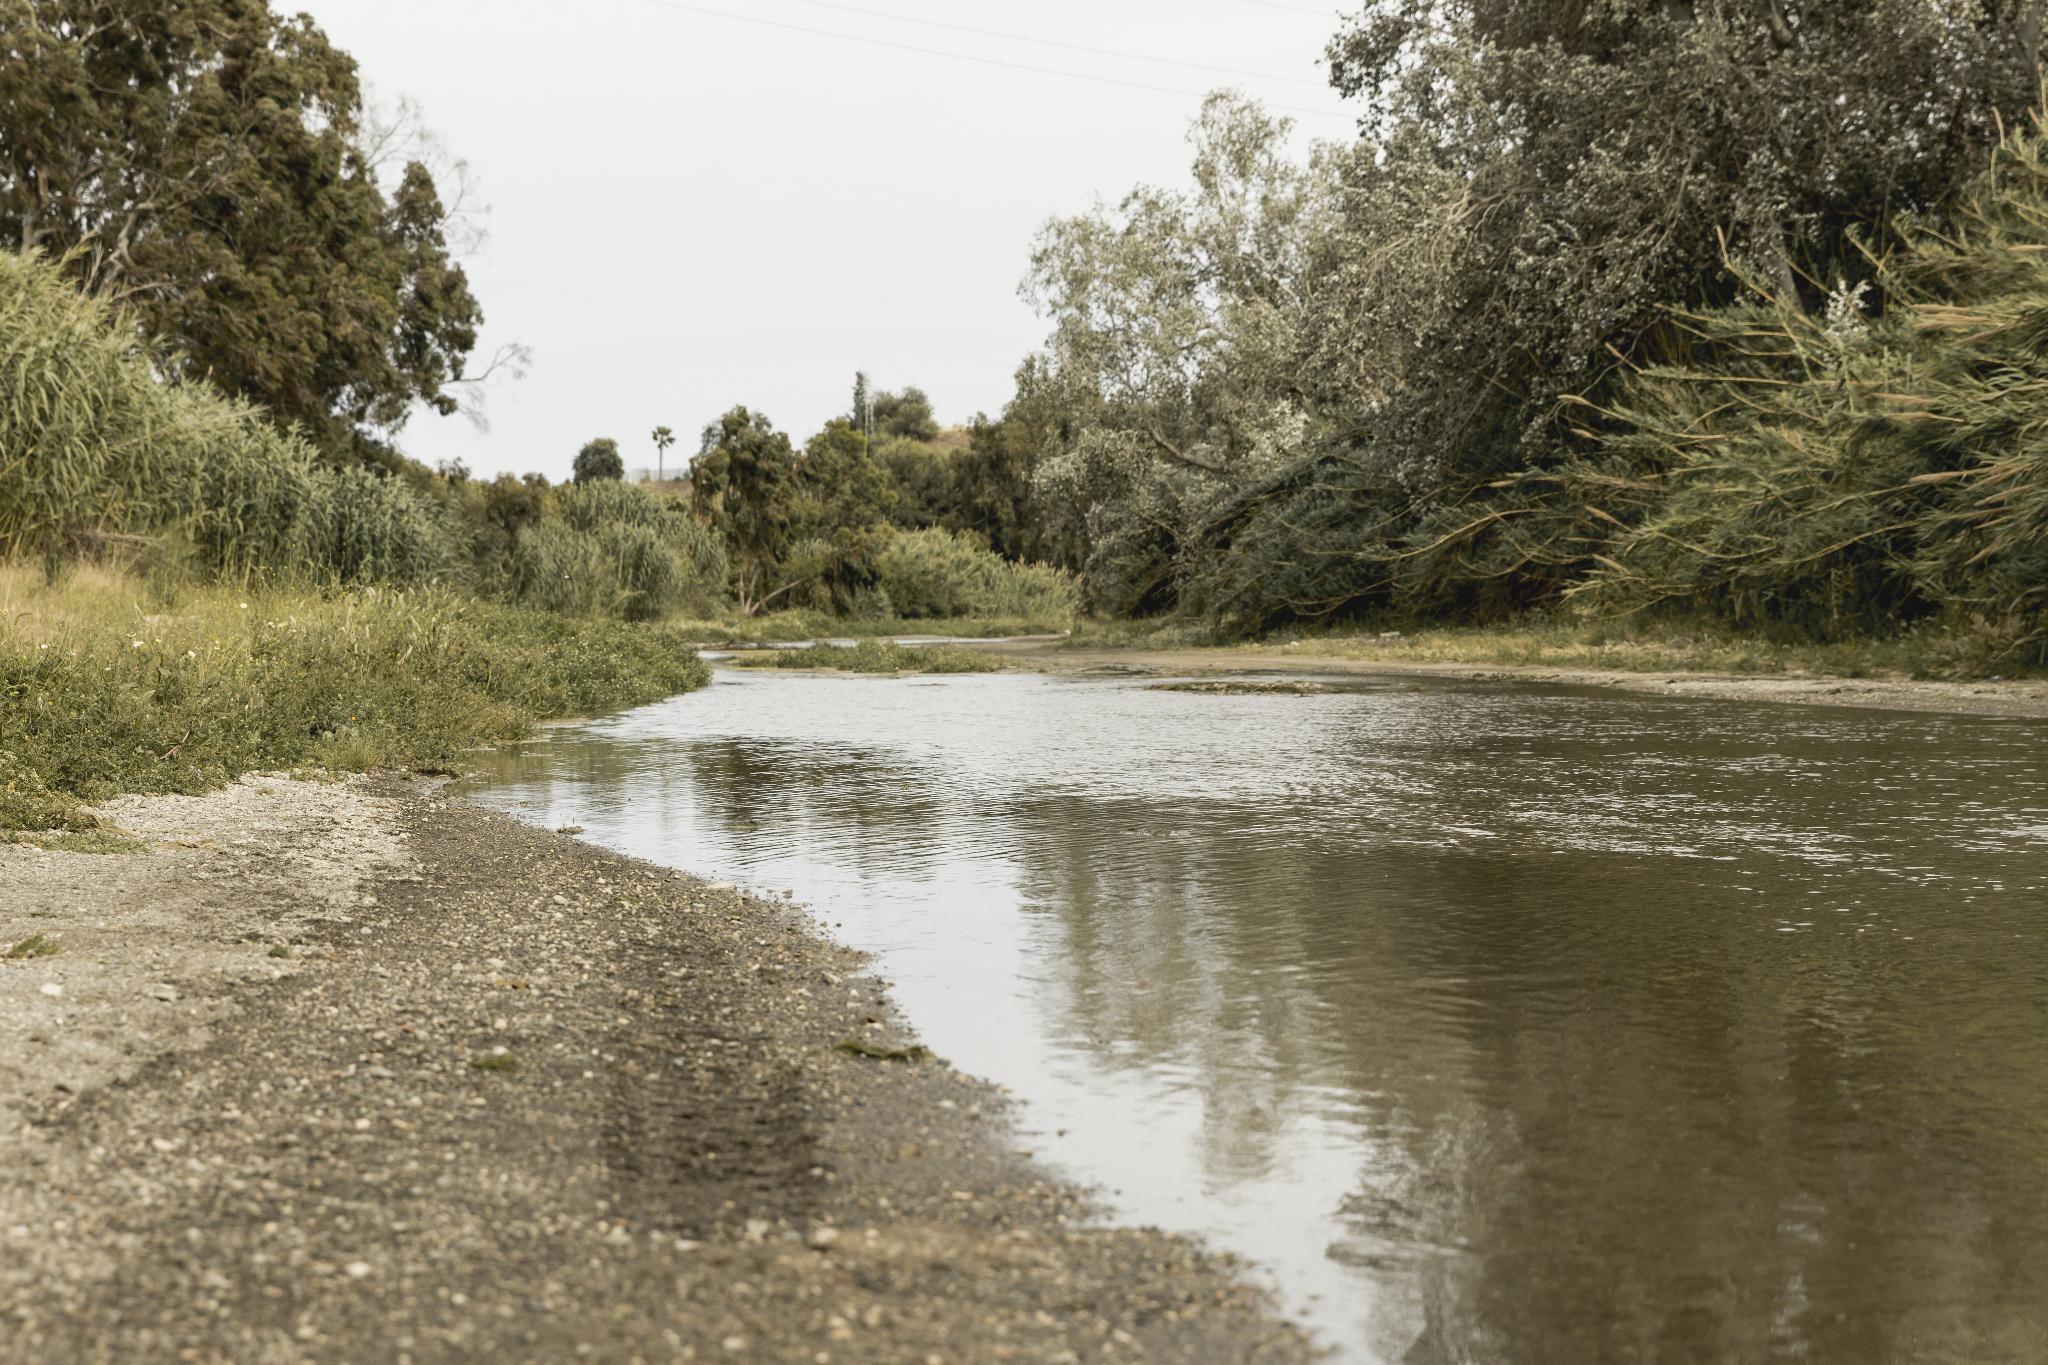Stagnant water: (419, 207, 2048, 1360)
